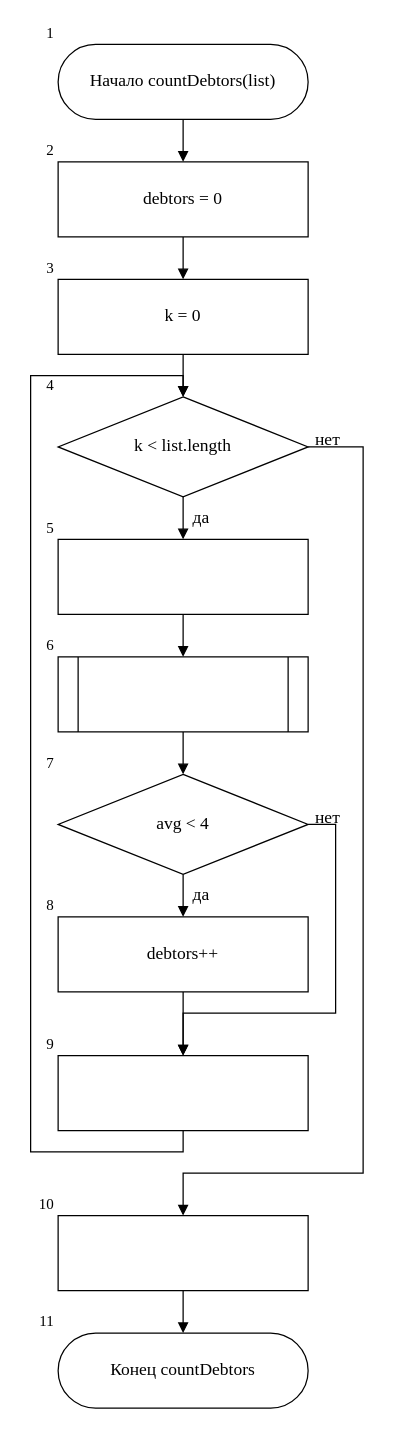
Some shapes in this 395 by 1430 pixel diagram are drawn without their labels. Here are the shapes that lost their labels. From the top down, the centre of each, then its label:
At (x=182, y=576): "student = list[k]".
At (x=182, y=694): "avg = average(student.marks)".
At (x=182, y=1092): "k++".
At (x=182, y=1252): "Возврат debtors".
